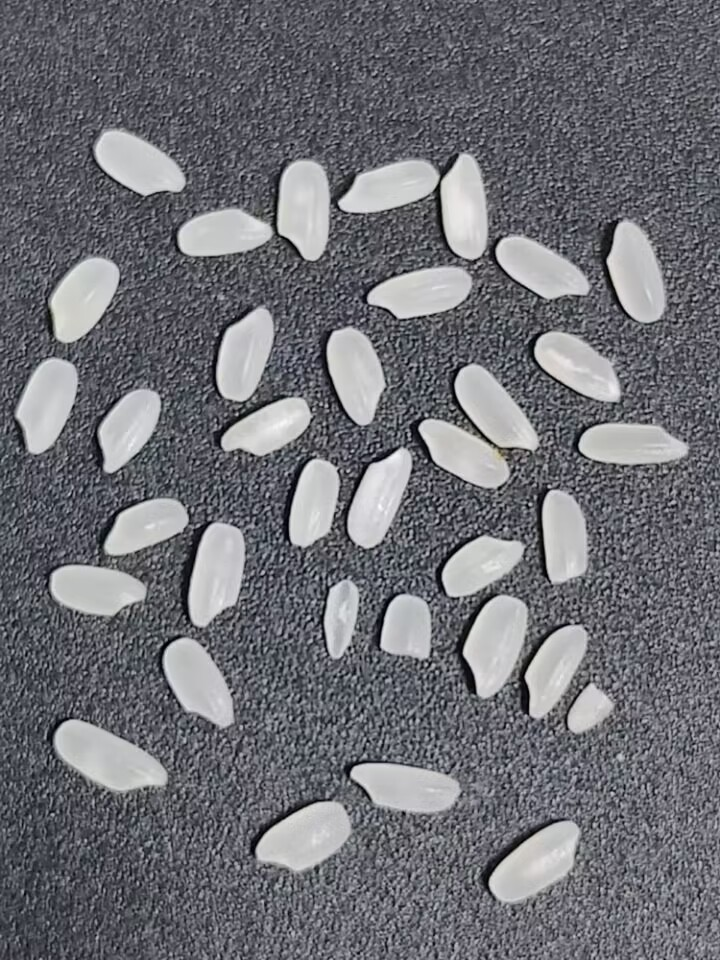broken: (378, 594, 433, 658), (322, 580, 359, 660), (566, 683, 615, 734)
rice: (45, 714, 173, 802), (239, 793, 357, 882), (450, 362, 541, 455), (178, 519, 253, 629), (456, 591, 530, 702), (155, 636, 239, 732), (342, 755, 464, 820), (517, 615, 592, 720), (488, 819, 580, 904), (12, 351, 78, 468), (491, 234, 593, 309), (346, 447, 417, 554), (414, 416, 513, 491), (603, 218, 670, 327), (272, 157, 338, 266), (89, 126, 187, 199), (527, 330, 625, 403), (209, 303, 277, 405), (331, 158, 440, 220), (319, 324, 386, 424), (217, 394, 314, 463), (435, 152, 494, 264), (43, 561, 149, 623), (96, 383, 165, 477), (45, 256, 119, 343), (534, 485, 593, 593), (365, 268, 478, 323), (434, 532, 528, 598), (166, 206, 275, 262), (284, 454, 343, 556), (99, 493, 188, 560), (576, 416, 691, 467)
